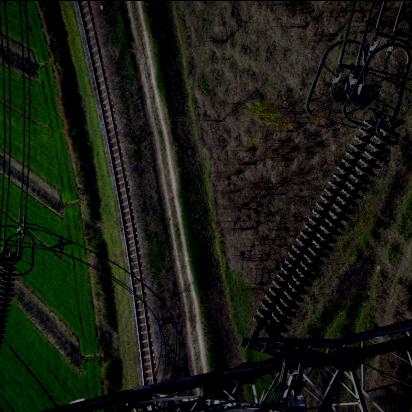insulator: (261, 98, 390, 369)
